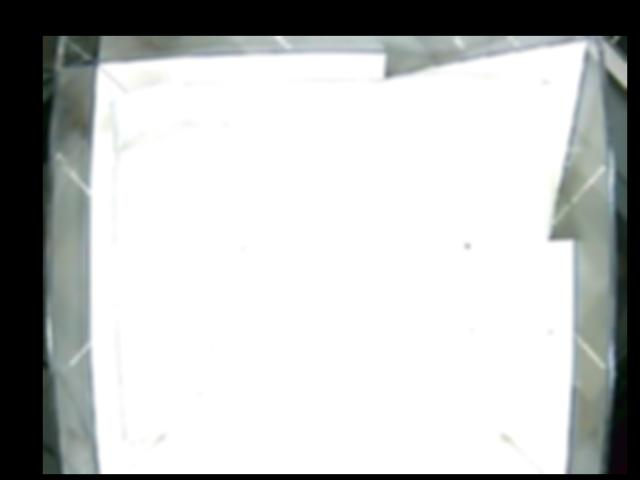Bottle: (110, 81, 244, 269)
